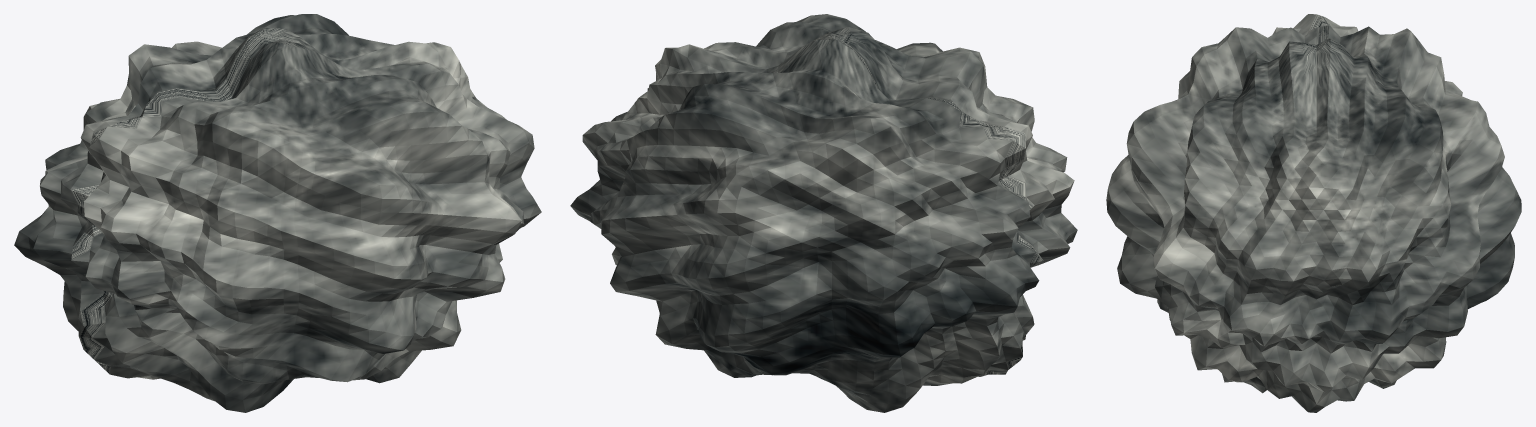
File: giant_01.glb
3 renders of one model, left to right at view 1: azimuth 30°, elevation 25°; view 2: azimuth 150°, elevation 25°; view 3: azimuth 270°, elevation 25°, orthographic. The views are drawn at different scales.
Parts seen in each view (by area): view 1: rock; view 2: rock; view 3: rock.
Boxes of the visible parts, box(x1,y1,x2,y2) form: rock: box(14, 14, 541, 412); rock: box(570, 14, 1077, 412); rock: box(1106, 14, 1521, 412).
Size of the model in its own units: 12.13 by 8.87 by 10.26.
1 material, 1 textured.
